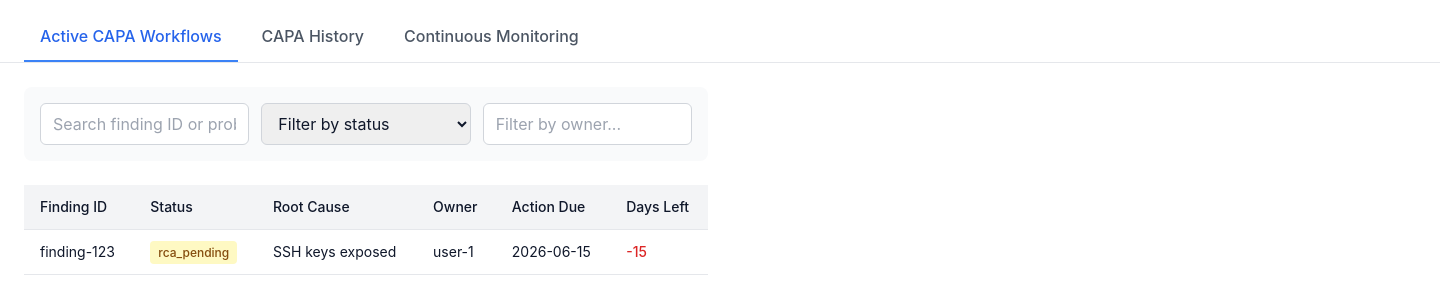
Test case: CapaAndMonitoringTab › History Tab › should switch to History tab on click
Click the button "CAPA History" at (313, 37), box [246,12,380,62]
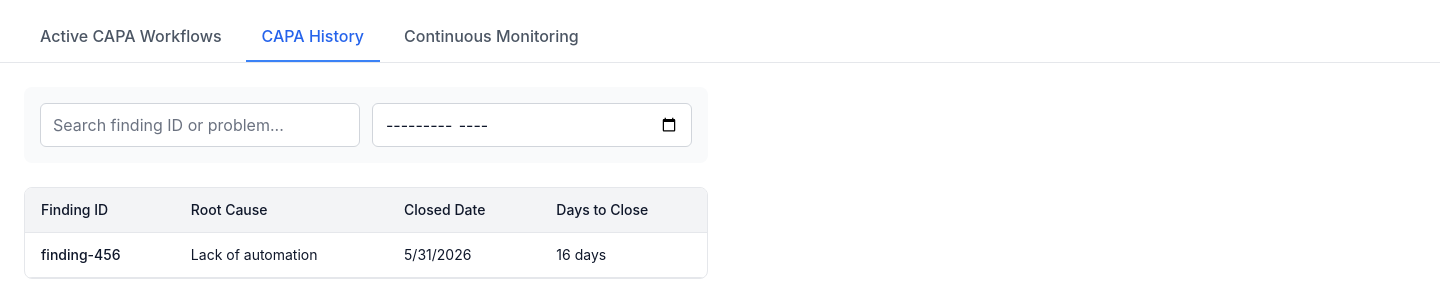
Expected: the text "finding-456" is shown, [25,232,175,278]
Expected: the text "finding-123" is gone
